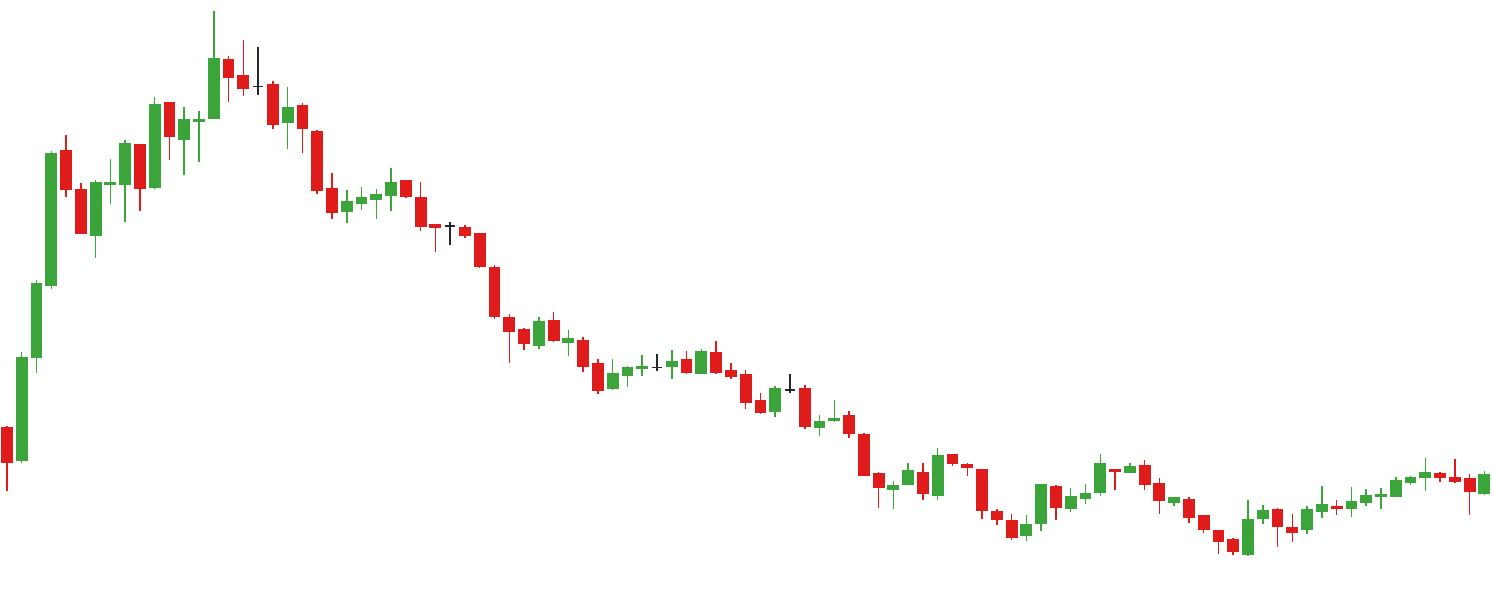buy: (1003, 483, 1257, 562)
